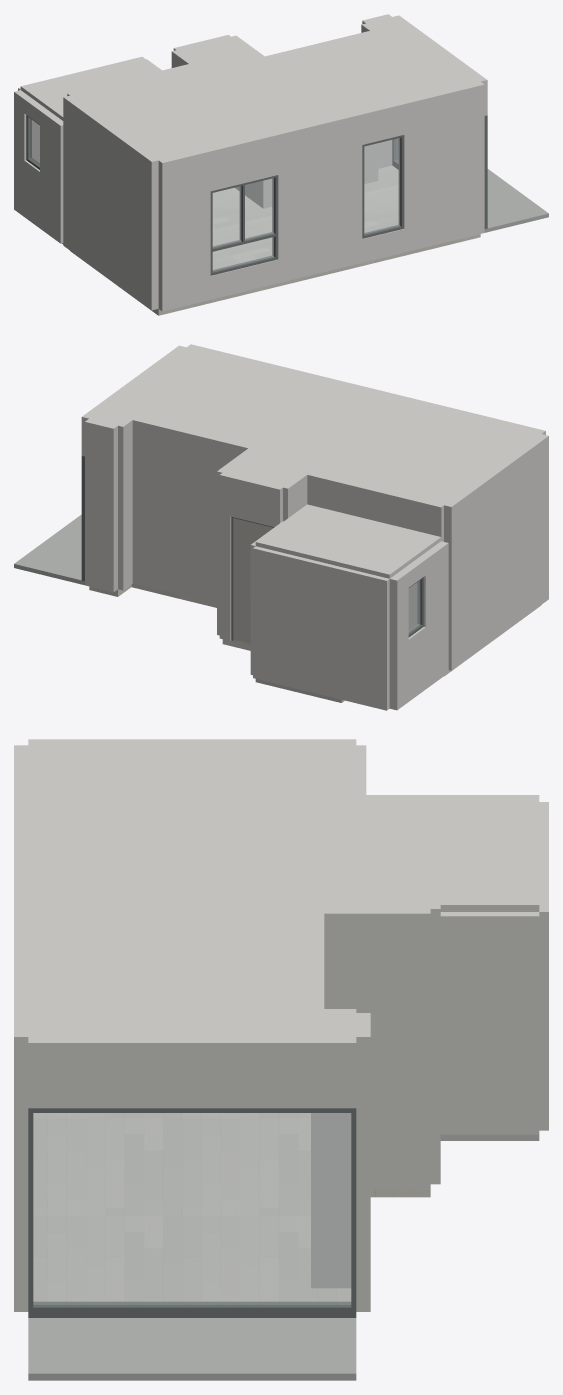
The model's file is architecture.glb.
The picture shows the model from 3 angles, top to bottom: view 1: azimuth 30°, elevation 25°; view 2: azimuth 150°, elevation 25°; view 3: azimuth 270°, elevation 25°; orthographic projection. The views are drawn at different scales.
Parts seen in each view (by area): view 1: P69 traced ceiling including projecting shelves and lips, left headboard wall, front wall pier 1, front wall pier 2, front wall pier 0, room floor - traced finished boundary, narrow window single glass, front perimeter low band, wide window lintel, bathroom A west lower pier, bathroom A ceiling SCHEMATIC height, balcony context floor - level unconfirmed (+21 smaller); view 2: P69 traced ceiling including projecting shelves and lips, bathroom A north wall, left headboard wall, bedroom B fixed partition - front, bathroom A ceiling SCHEMATIC height, northeast edge, front perimeter low band, bath wall solid, bathroom A west lower pier, bathroom A west upper pier, balcony context floor - level unconfirmed, bedroom B fixed partition - east return (+16 smaller); view 3: P69 traced ceiling including projecting shelves and lips, balcony glazing - internal division unconfirmed, room floor - traced finished boundary, balcony header, bathroom A east upper wall, bedroom B fixed partition - west side, balcony context floor - level unconfirmed, bathroom A ceiling SCHEMATIC height, front perimeter low band, vestibule ceiling, north low strip left, front wall pier 2 (+16 smaller).
Part boxes in pixels (x1=…): P69 traced ceiling including projecting shelves and lips: x1=82, y1=26, x2=468, y2=151; left headboard wall: x1=63, y1=95, x2=158, y2=310; front wall pier 1: x1=274, y1=111, x2=362, y2=283; front wall pier 2: x1=401, y1=81, x2=484, y2=252; front wall pier 0: x1=158, y1=148, x2=210, y2=311; room floor - traced finished boundary: x1=70, y1=165, x2=480, y2=315; narrow window single glass: x1=364, y1=138, x2=399, y2=234; front perimeter low band: x1=146, y1=73, x2=477, y2=157; wide window lintel: x1=207, y1=132, x2=278, y2=191; bathroom A west lower pier: x1=40, y1=109, x2=63, y2=243; bathroom A ceiling SCHEMATIC height: x1=20, y1=56, x2=160, y2=120; balcony context floor - level unconfirmed: x1=484, y1=169, x2=548, y2=232; P69 traced ceiling including projecting shelves and lips: x1=103, y1=357, x2=527, y2=495; bathroom A north wall: x1=253, y1=546, x2=389, y2=710; left headboard wall: x1=444, y1=434, x2=548, y2=670; bedroom B fixed partition - front: x1=132, y1=417, x2=251, y2=603; bathroom A ceiling SCHEMATIC height: x1=255, y1=504, x2=441, y2=578; northeast edge: x1=85, y1=418, x2=117, y2=592; front perimeter low band: x1=173, y1=350, x2=537, y2=443; bath wall solid: x1=347, y1=482, x2=443, y2=629; bathroom A west lower pier: x1=418, y1=541, x2=448, y2=689; bathroom A west upper pier: x1=389, y1=570, x2=408, y2=710; balcony context floor - level unconfirmed: x1=14, y1=514, x2=84, y2=585; bedroom B fixed partition - east return: x1=118, y1=416, x2=136, y2=590; P69 traced ceiling including projecting shelves and lips: x1=73, y1=745, x2=310, y2=1036; balcony glazing - internal division unconfirmed: x1=33, y1=1113, x2=350, y2=1304; room floor - traced finished boundary: x1=33, y1=1113, x2=430, y2=1301; balcony header: x1=28, y1=1037, x2=356, y2=1108; bathroom A east upper wall: x1=440, y1=912, x2=539, y2=1134; bedroom B fixed partition - west side: x1=311, y1=909, x2=430, y2=1188; balcony context floor - level unconfirmed: x1=28, y1=1318, x2=356, y2=1380; bathroom A ceiling SCHEMATIC height: x1=366, y1=795, x2=539, y2=911; front perimeter low band: x1=40, y1=745, x2=73, y2=1036; vestibule ceiling: x1=311, y1=859, x2=430, y2=908; north low strip left: x1=311, y1=745, x2=356, y2=859; front wall pier 2: x1=14, y1=964, x2=28, y2=1311.
Bounding box in the file's own units: 8.82 × 3.3 × 5.55.
11 materials, 1 textured.
